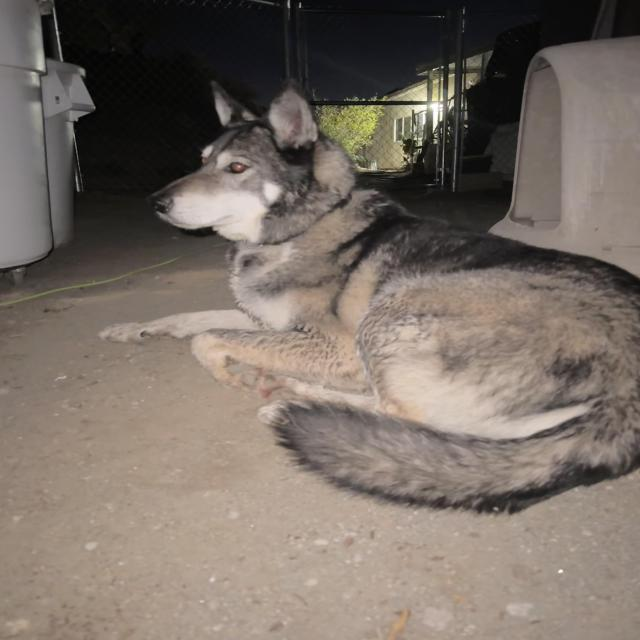siberian_husky_dog: (126, 70, 372, 260)
